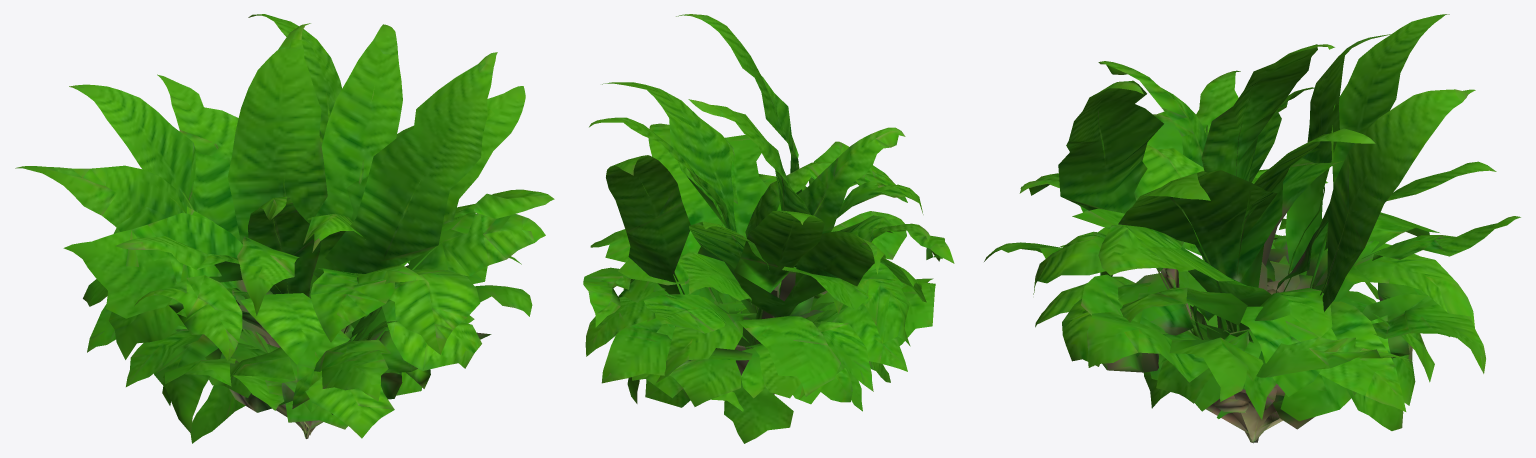
File: fern.glb
3 views of the same model, side by side, from view 1: azimuth 30°, elevation 25°; view 2: azimuth 150°, elevation 25°; view 3: azimuth 270°, elevation 25° (orthographic). The views are drawn at different scales.
Bounding box in the file's own units: 0.9189 × 0.8213 × 0.9375.
1 material, 1 textured.
